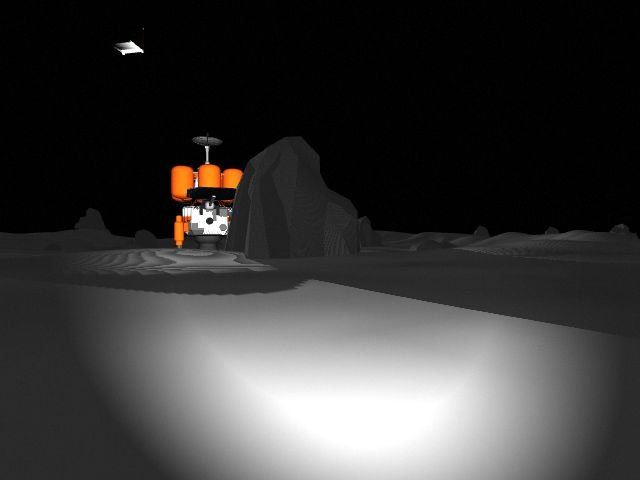cubesat: (106, 16, 154, 63)
